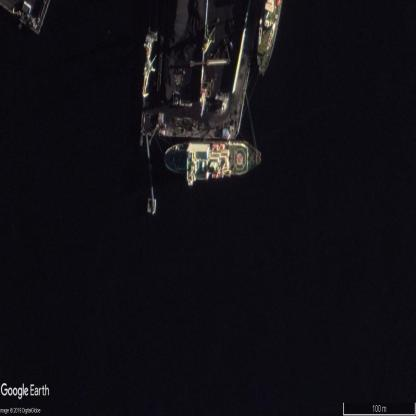ship: (164, 138, 263, 178), (256, 0, 283, 78)
